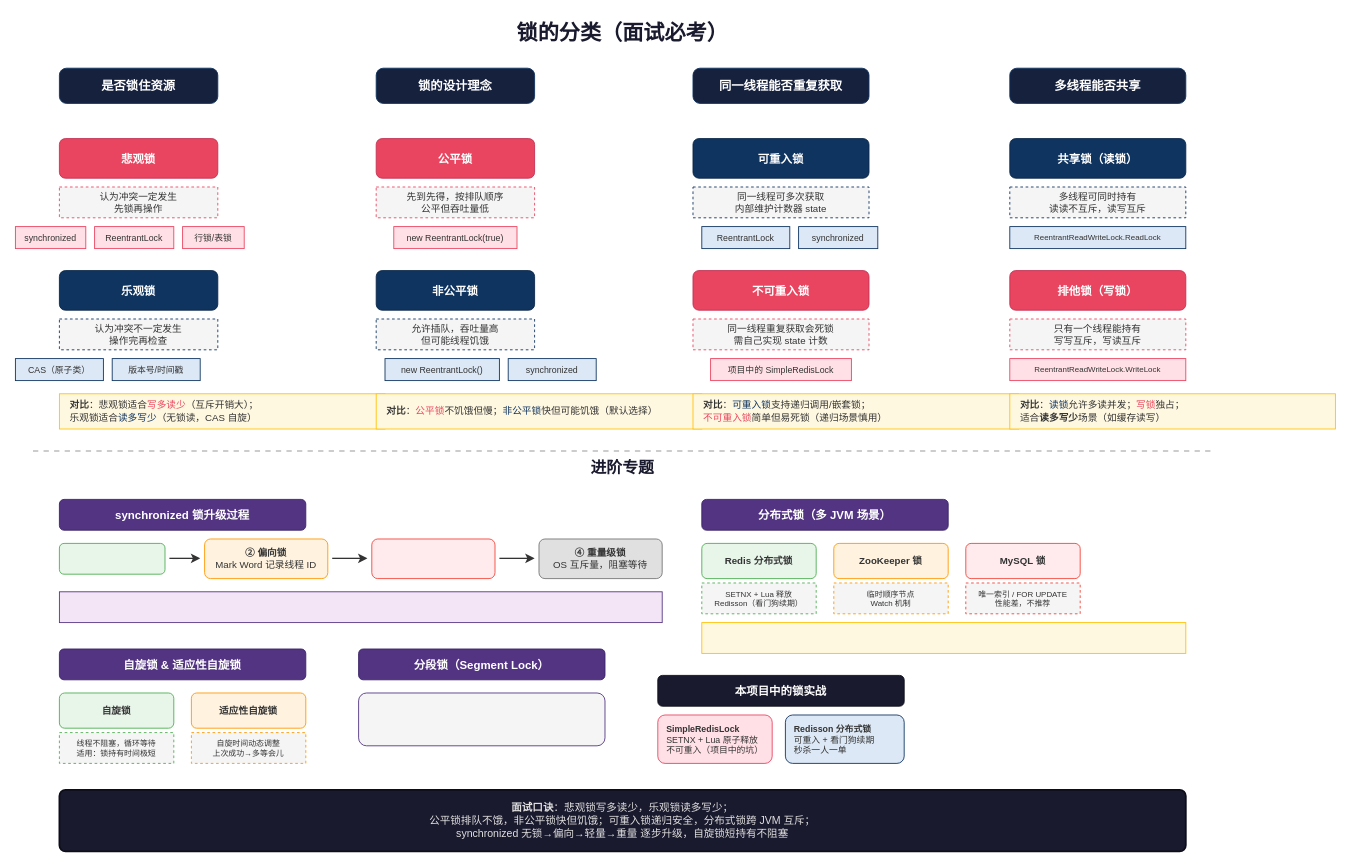
Some shapes in this 1351 by 867 pixel diagram are drawn without their labels. Here are the shapes that lost their labels. From the top down, the box of each, then its label:
(59, 543, 165, 574): ① 无锁
(371, 538, 495, 579): ③ 轻量级锁 CAS 自旋获取
(59, 591, 662, 623): 只能升级不能降级 （偏向锁撤销除外） 目的： 根据竞争程度逐步升级，平衡性能与安全
(701, 622, 1186, 653): 选型对比 ： Redis AP 高性能（本项目）； ZK CP 强一致； MySQL 性能差仅兜底
(358, 692, 605, 746): 将数据分成多个段，每段独立加锁 典型：ConcurrentHashMap（JDK7） JDK8 已改为 CAS + synchronized
